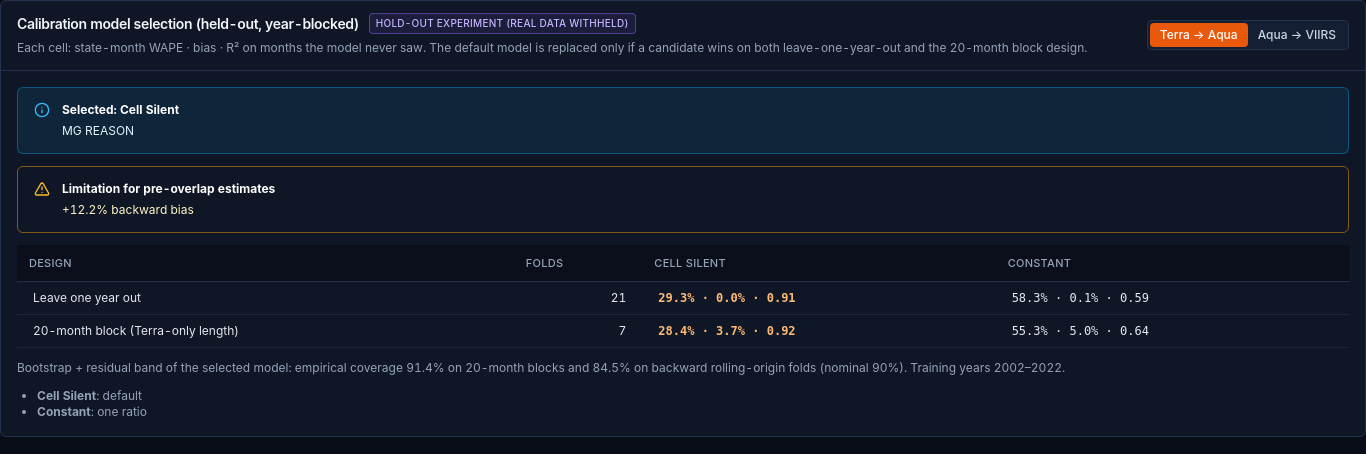
calibration model selection panel › shows the held-out decision and refetches when the calibration step changes
The width and height of the screenshot is (1366, 454).
Expected: the text "MG REASON" is shown, [62, 123, 134, 138]
Expected: the text "+12.2% backward bias" is shown, [62, 202, 194, 217]
What coordinates should you click on to do the following:
click the button "Aqua → VIIRS"
I would click on:
 (1297, 35)
Its box is [1248, 23, 1346, 47].
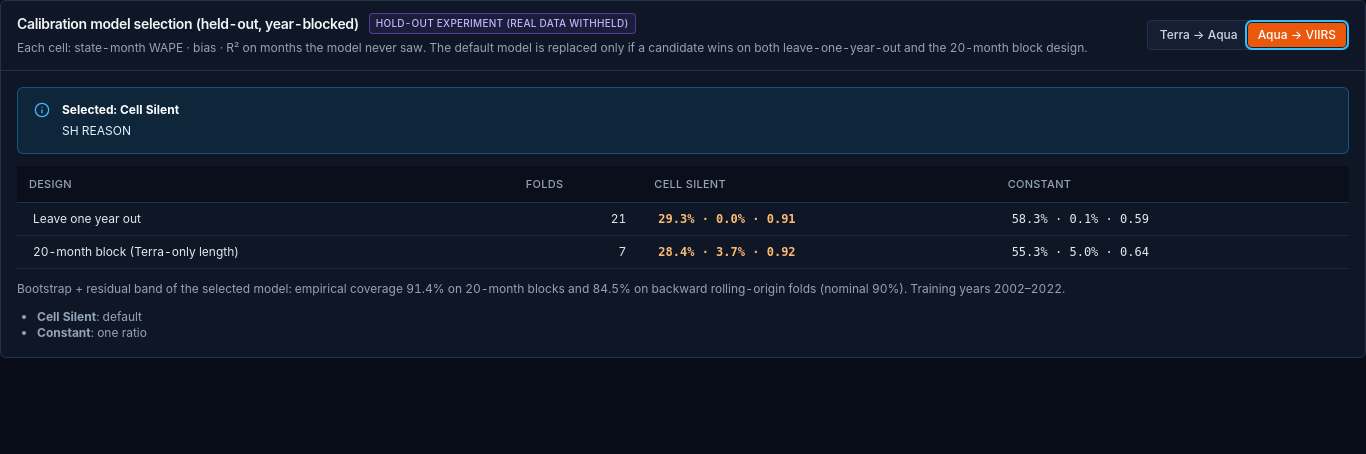
Result: the text "SH REASON" is shown at [62, 123, 131, 138]
Result: the text "+12.2% backward bias" is gone
